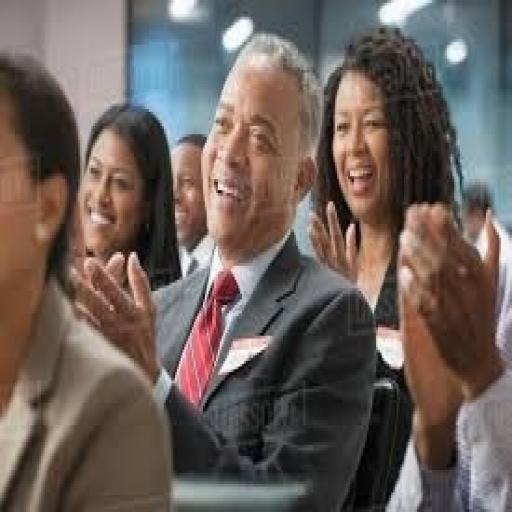clapping: (69, 31, 378, 509), (306, 25, 508, 509), (0, 50, 173, 510), (70, 98, 180, 294)
